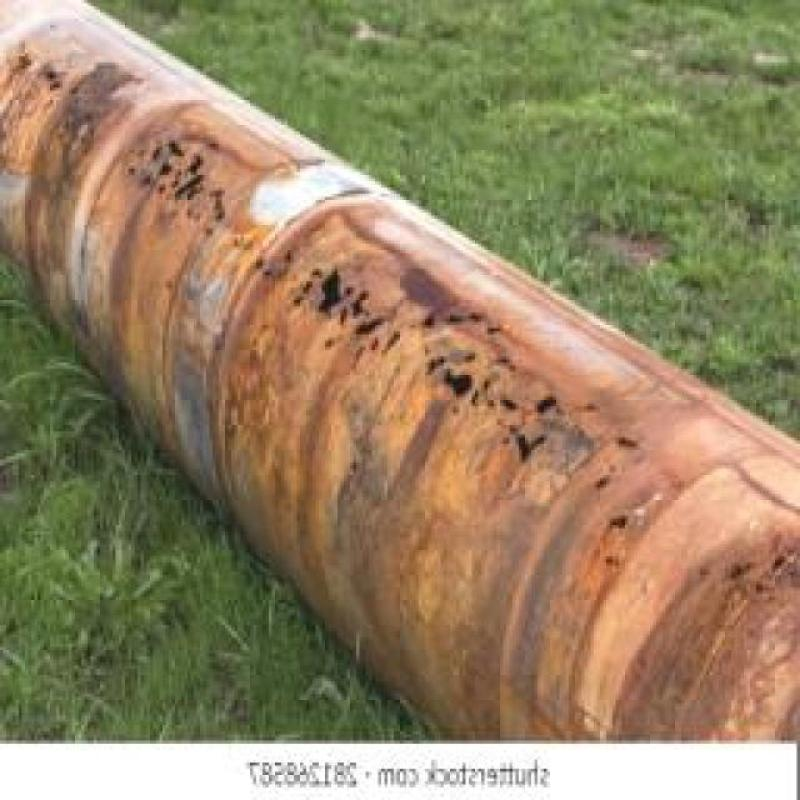Fracture: (437, 342, 560, 449), (139, 150, 240, 219), (309, 264, 362, 309)
corrosion: (9, 116, 597, 716)
